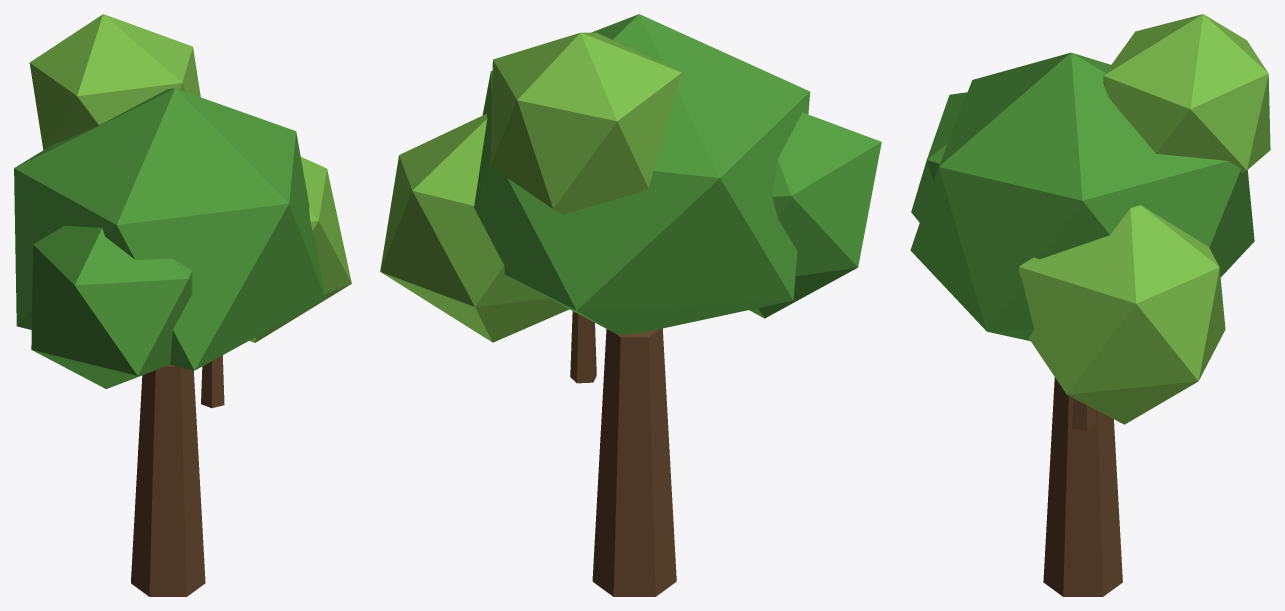
Rendered from tree_oak.glb.
3 views of the same model, side by side, from view 1: azimuth 30°, elevation 25°; view 2: azimuth 150°, elevation 25°; view 3: azimuth 270°, elevation 25° (orthographic). The views are drawn at different scales.
Parts seen in each view (by area): view 1: tree_oak; view 2: tree_oak; view 3: tree_oak.
Part boxes in pixels (x1=…): tree_oak: x1=14, y1=14, x2=351, y2=596; tree_oak: x1=380, y1=14, x2=881, y2=596; tree_oak: x1=910, y1=14, x2=1270, y2=596.
Bounding box in the file's own units: 1.95 × 2.82 × 1.63.
